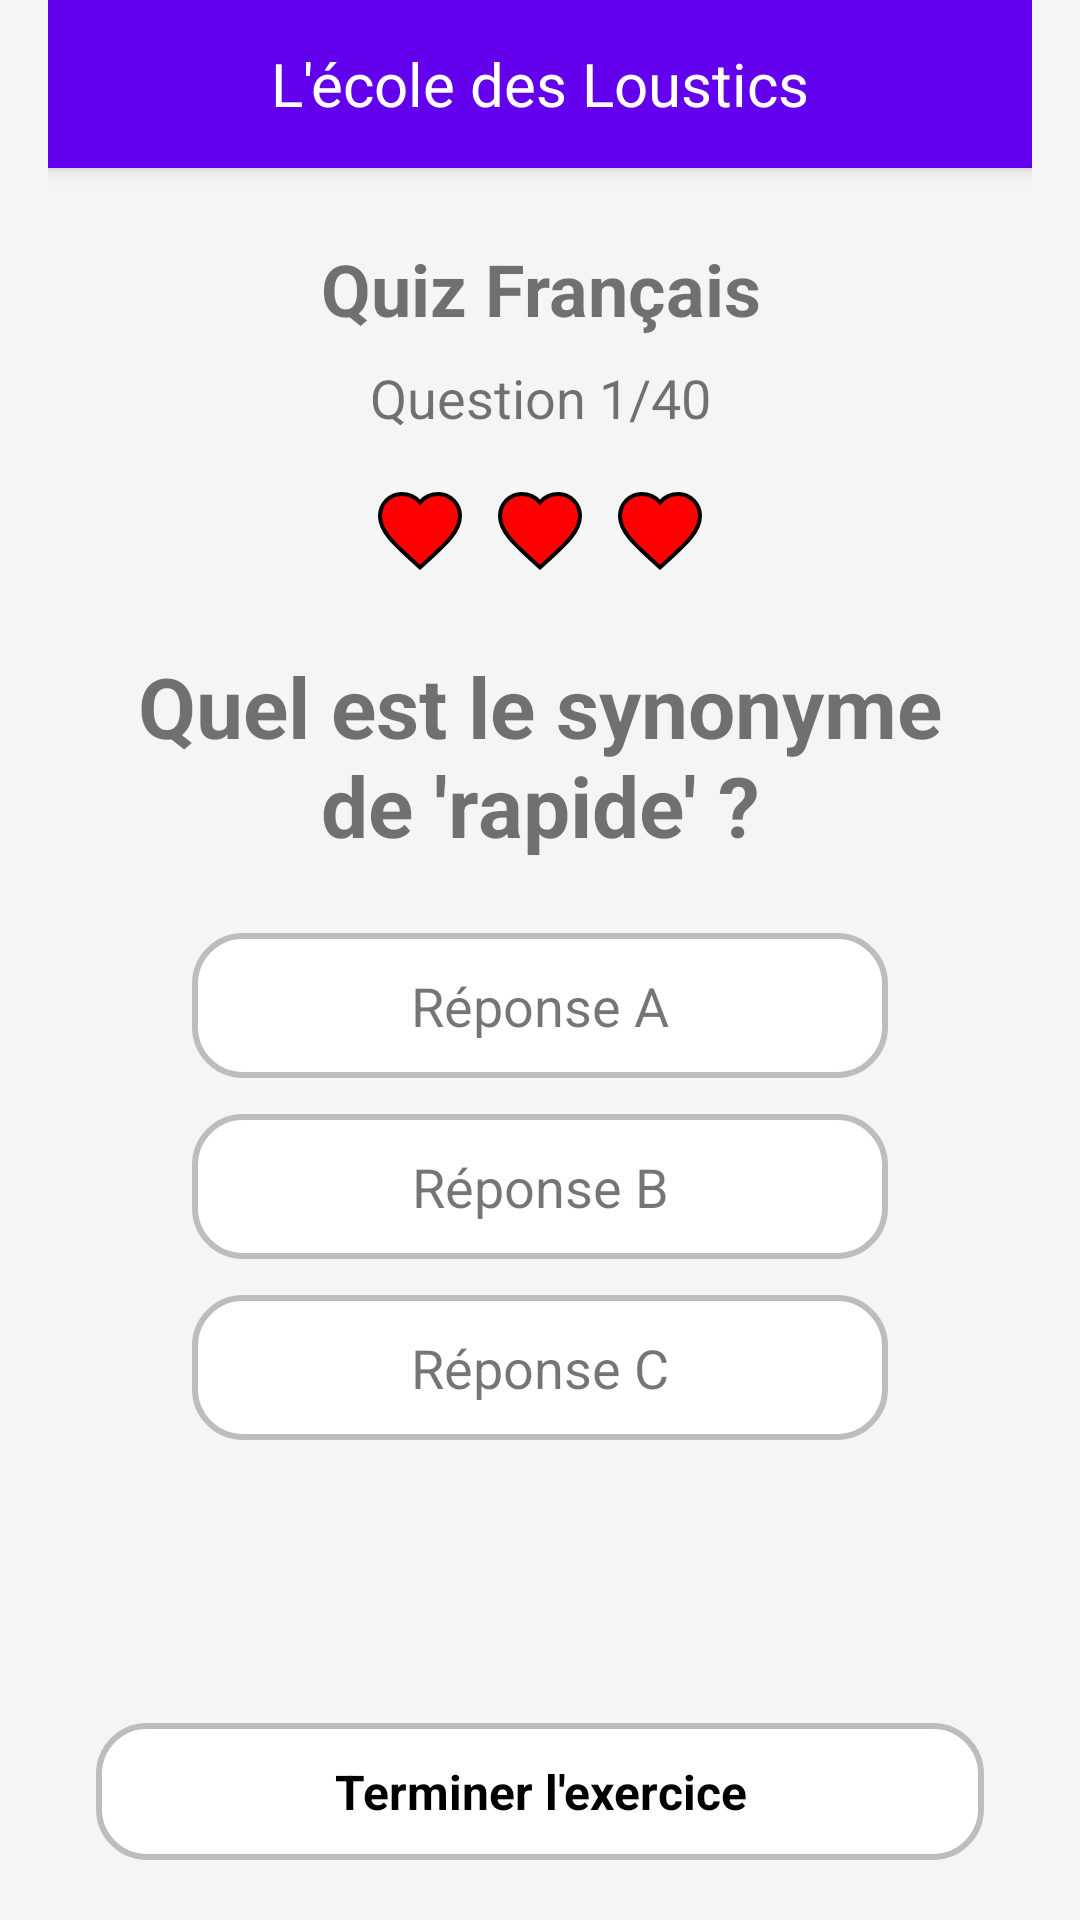

Locate icon controls on the screen. Image size 1080×1920, boxes as (x1, y1, x2, y2).
heart: (378, 492, 462, 570), (498, 492, 582, 570), (618, 492, 702, 570)
